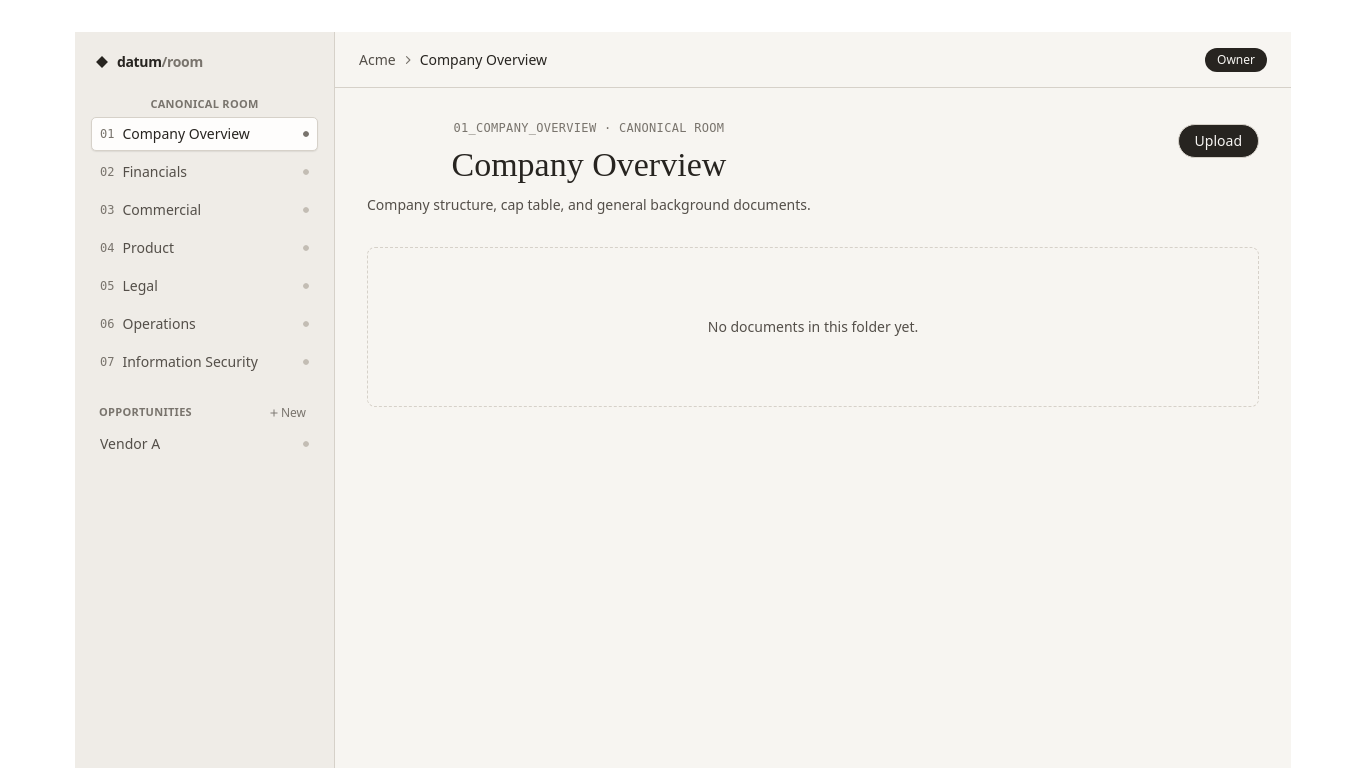
Test: Room › with a loaded room › shows the Upload button for an owner and opens the modal on click
The width and height of the screenshot is (1366, 768).
What coordinates should you click on to do the following:
click the button "Upload"
I would click on:
 (1218, 141)
Its box is [1178,124,1259,158].
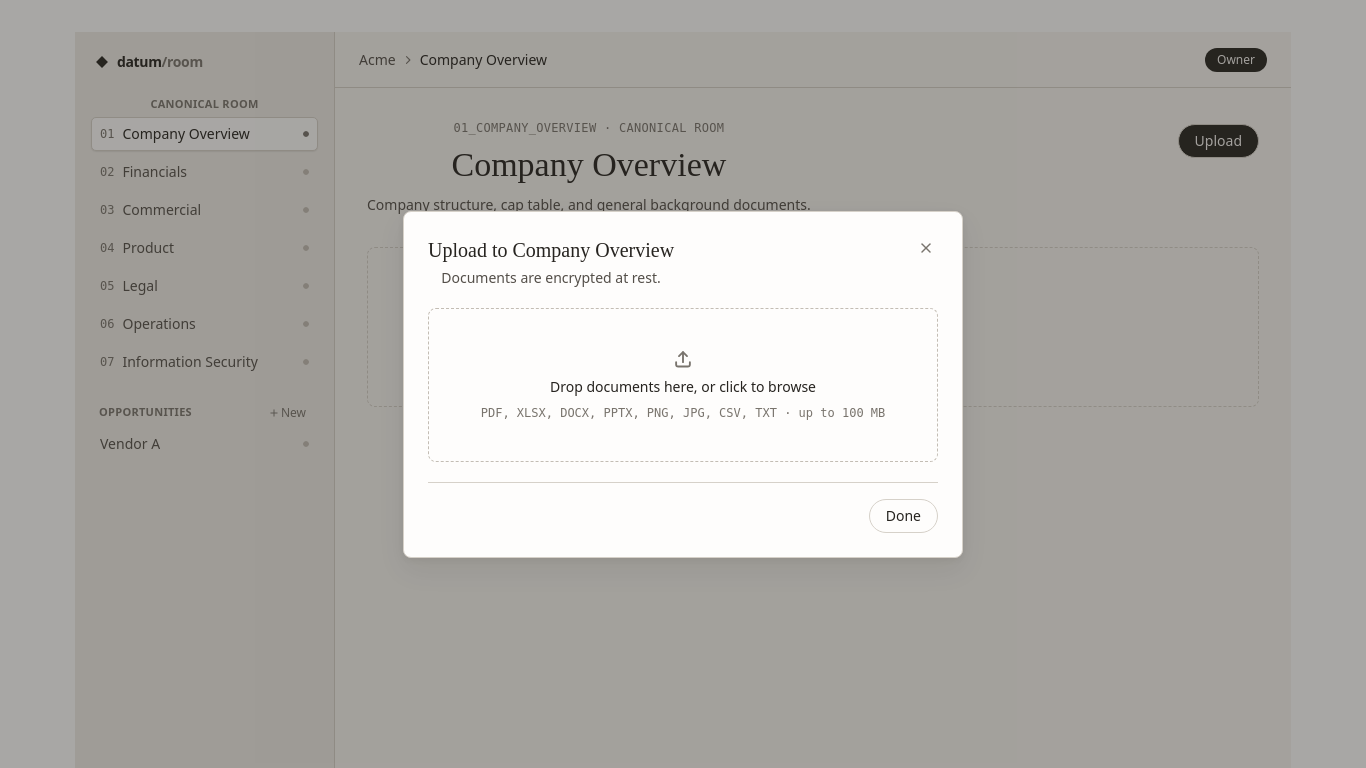
Expected: the dialog is shown, [403,210,963,558]
Expected: the text "Drop documents here, or click to browse" is shown, [550,376,816,396]
What coordinates should you click on to do the following:
click the button "Done"
I would click on:
 (903, 516)
Its box is [869,498,938,532].
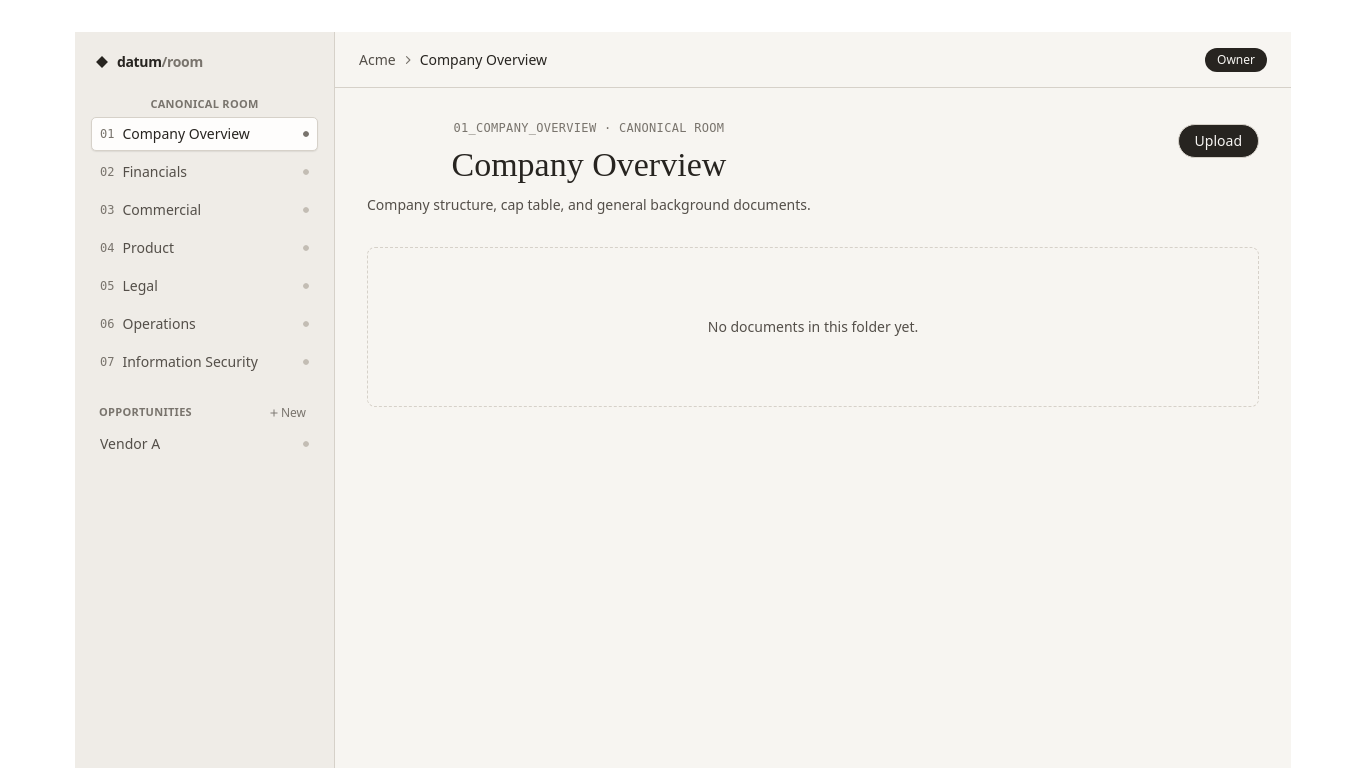
Expected: the dialog is gone
